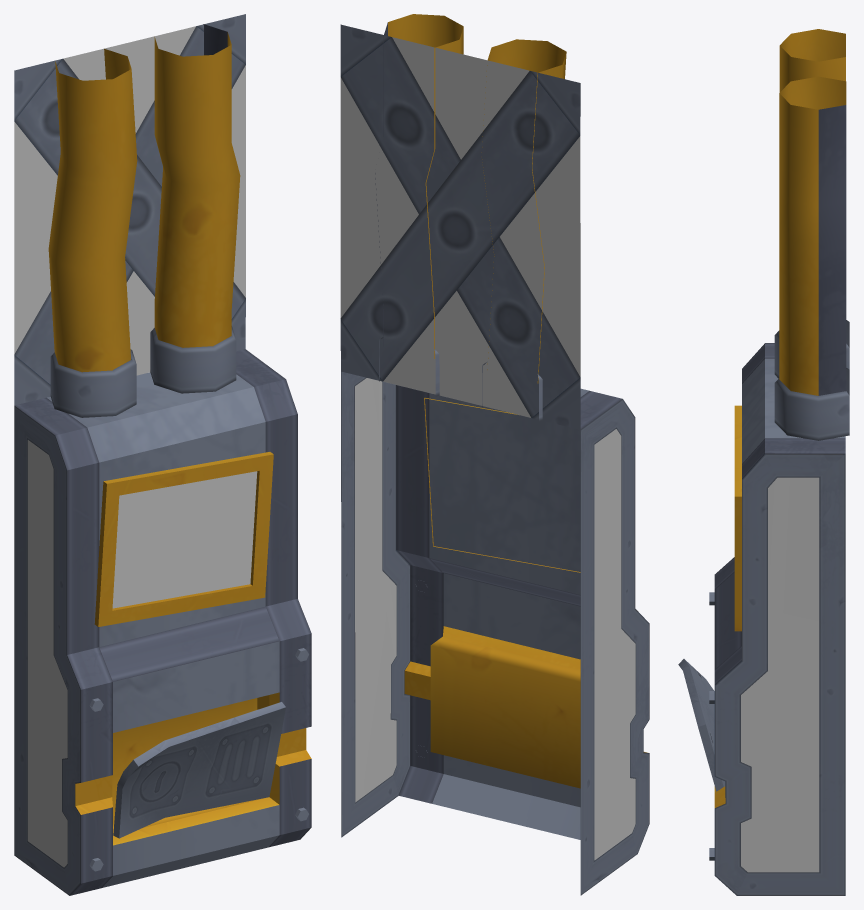
The model's file is obj_spaceship_wall03.fbx.
3 renders of one model, left to right at view 1: azimuth 30°, elevation 25°; view 2: azimuth 150°, elevation 25°; view 3: azimuth 270°, elevation 25°, orthographic. The views are drawn at different scales.
Visible parts, largest first — view 1: polySurface235; view 2: polySurface235; view 3: polySurface235.
Boxes of the visible parts, x1,y1,x2,y2 form: polySurface235: (14,14,311,895); polySurface235: (340,14,649,895); polySurface235: (678,29,849,895).
Bounding box in the file's own units: 4.02 × 13 × 2.62.
